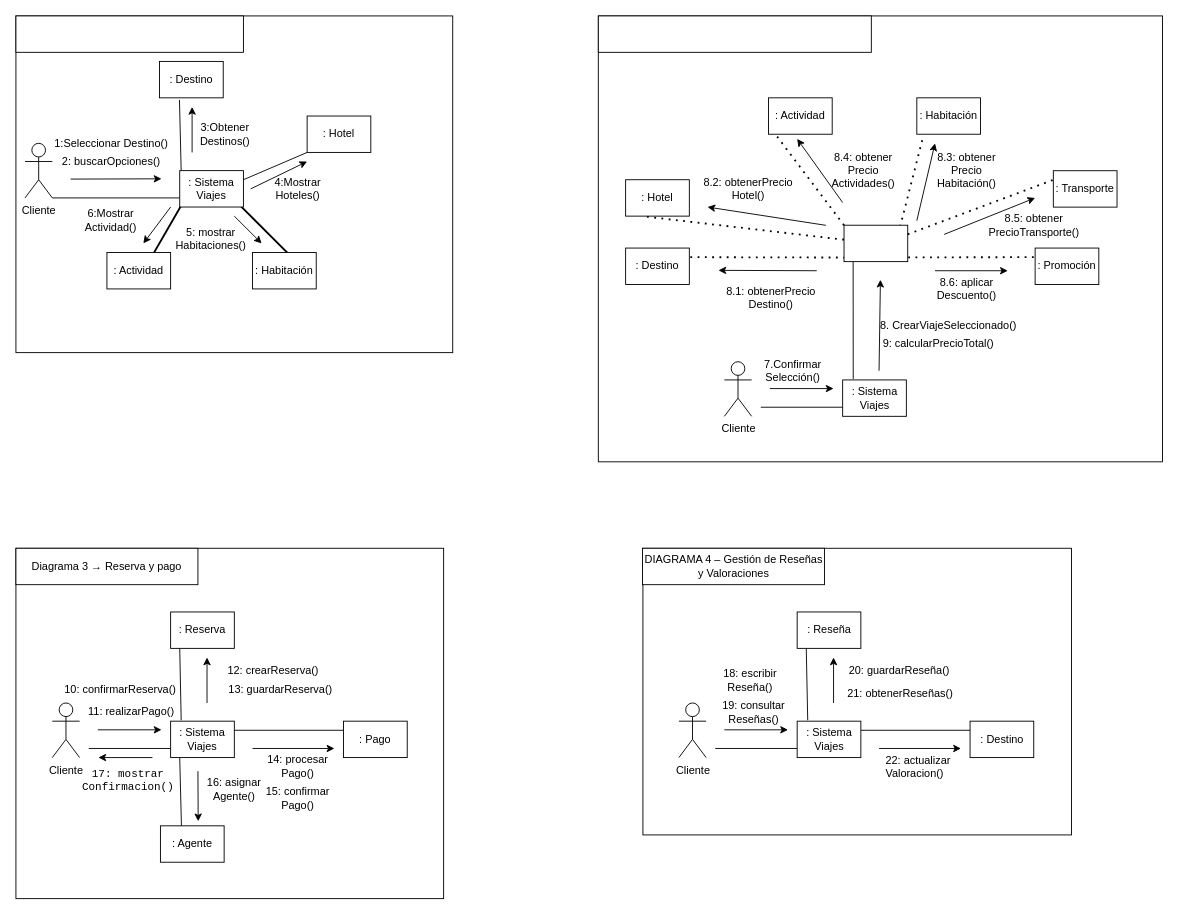
This 1178x915 diagram has some shape labels left out. Each missing label, with the box of its shape:
: Viaje: (843, 224, 908, 262)
Diagrama 1 → Búsqueda y selección viaje: (15, 15, 243, 52)
Diagrama 2 → Crear viaje y calcular precio: (597, 15, 871, 52)
